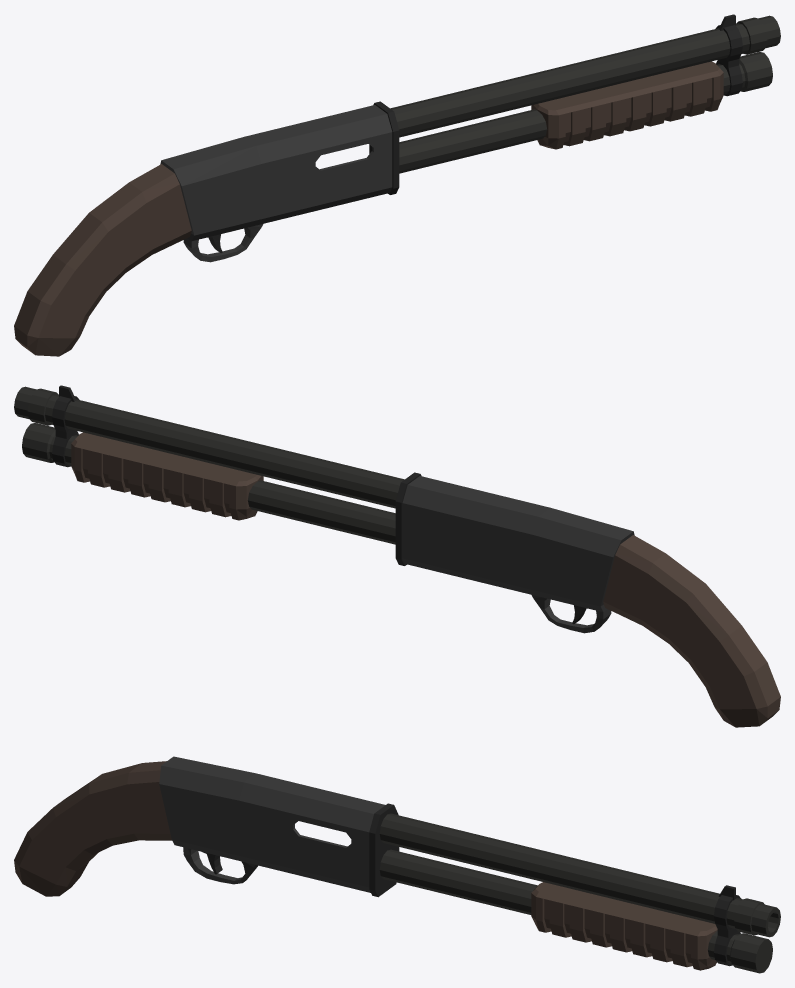
Rendered from shortstock.glb.
3 renders of one model, top to bottom at view 1: azimuth 30°, elevation 25°; view 2: azimuth 150°, elevation 25°; view 3: azimuth 330°, elevation 25°, orthographic.
Parts seen in each view (by area): view 1: Shotgun_ShortStock; view 2: Shotgun_ShortStock; view 3: Shotgun_ShortStock.
Part boxes in pixels (x1,y1,x2,y2): Shotgun_ShortStock: (14, 14, 780, 356); Shotgun_ShortStock: (14, 385, 780, 727); Shotgun_ShortStock: (14, 756, 780, 973).
Bounding box in the file's own units: 4.47 × 0.9667 × 0.2467.
